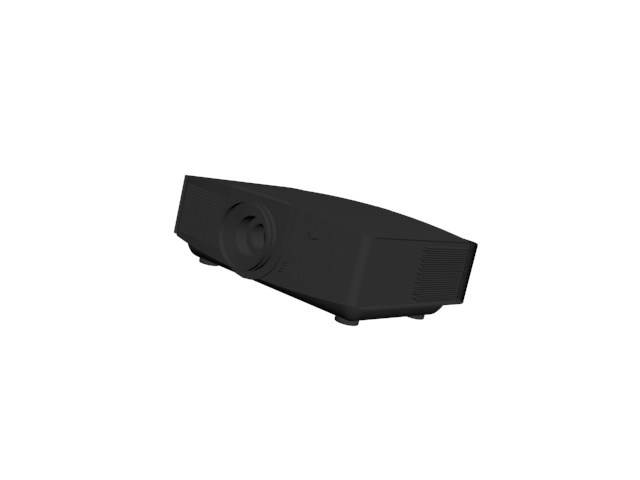projector: (169, 169, 480, 328)
